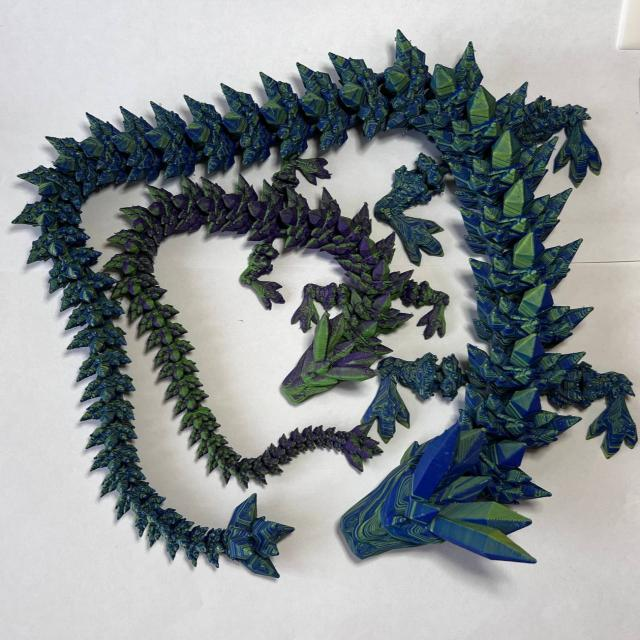Without deffect: (8, 19, 640, 587)
